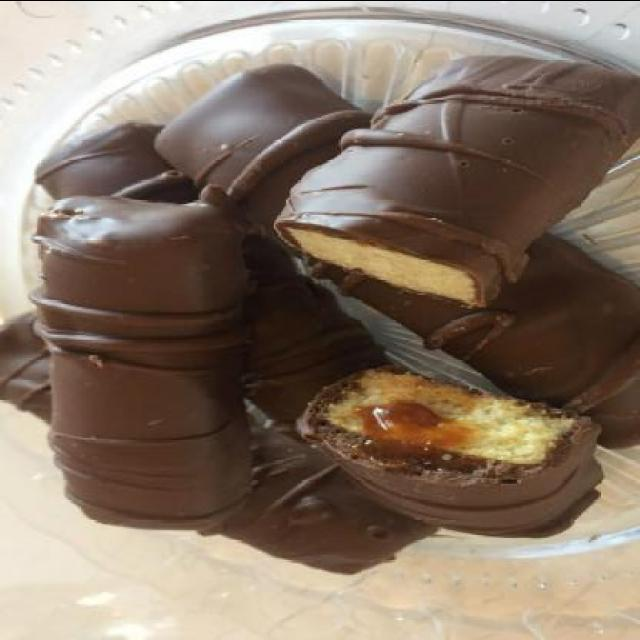Chocolate bar packaged: (260, 56, 638, 304), (34, 196, 260, 530), (290, 370, 610, 536)
